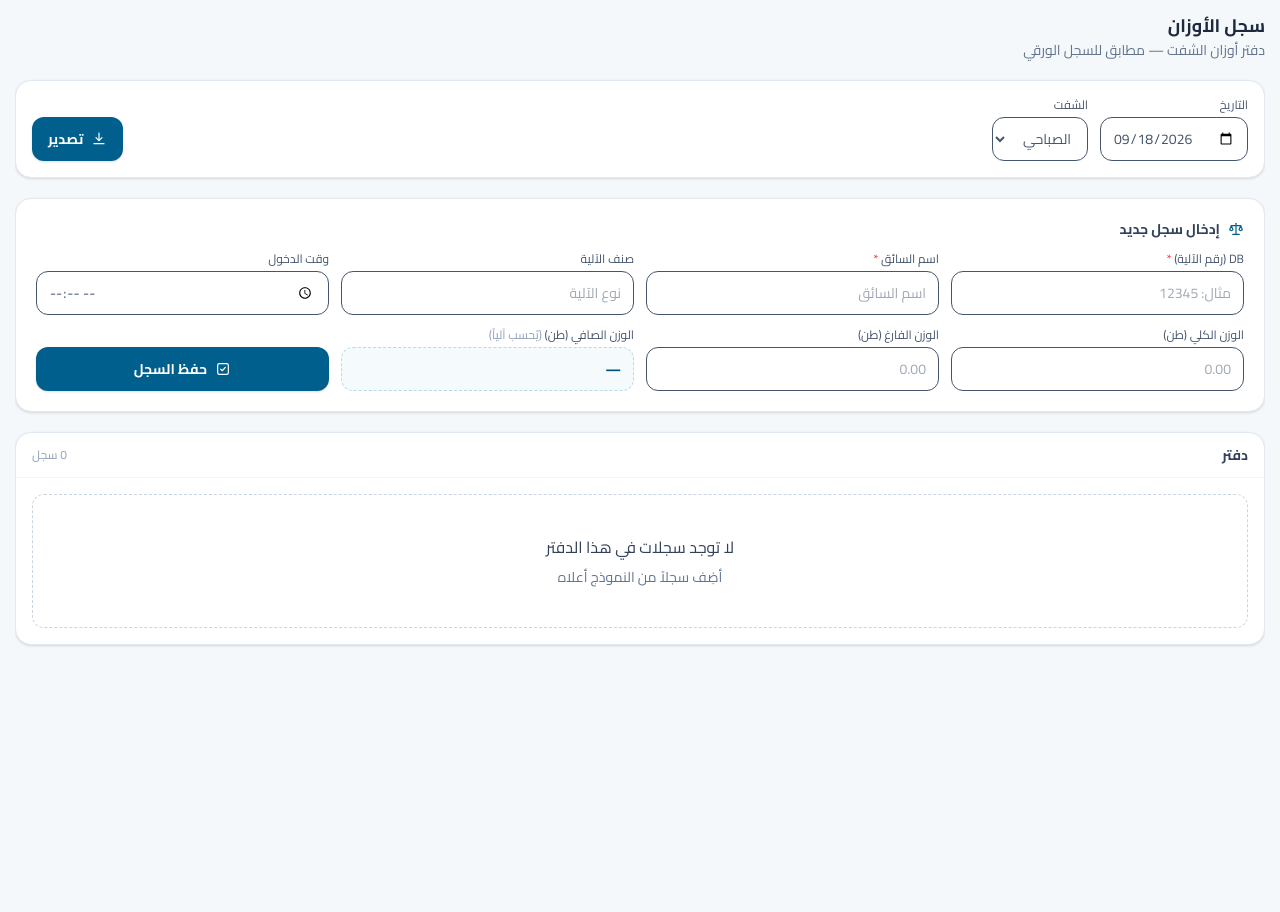
WeightsPage — النموذج › يحسب الصافي آلياً = الكلي − الفارغ
The image size is (1280, 912).
Step 1. Type "25" into the number field with test id "f-gross" → [1098, 369], box [951,347,1244,391]
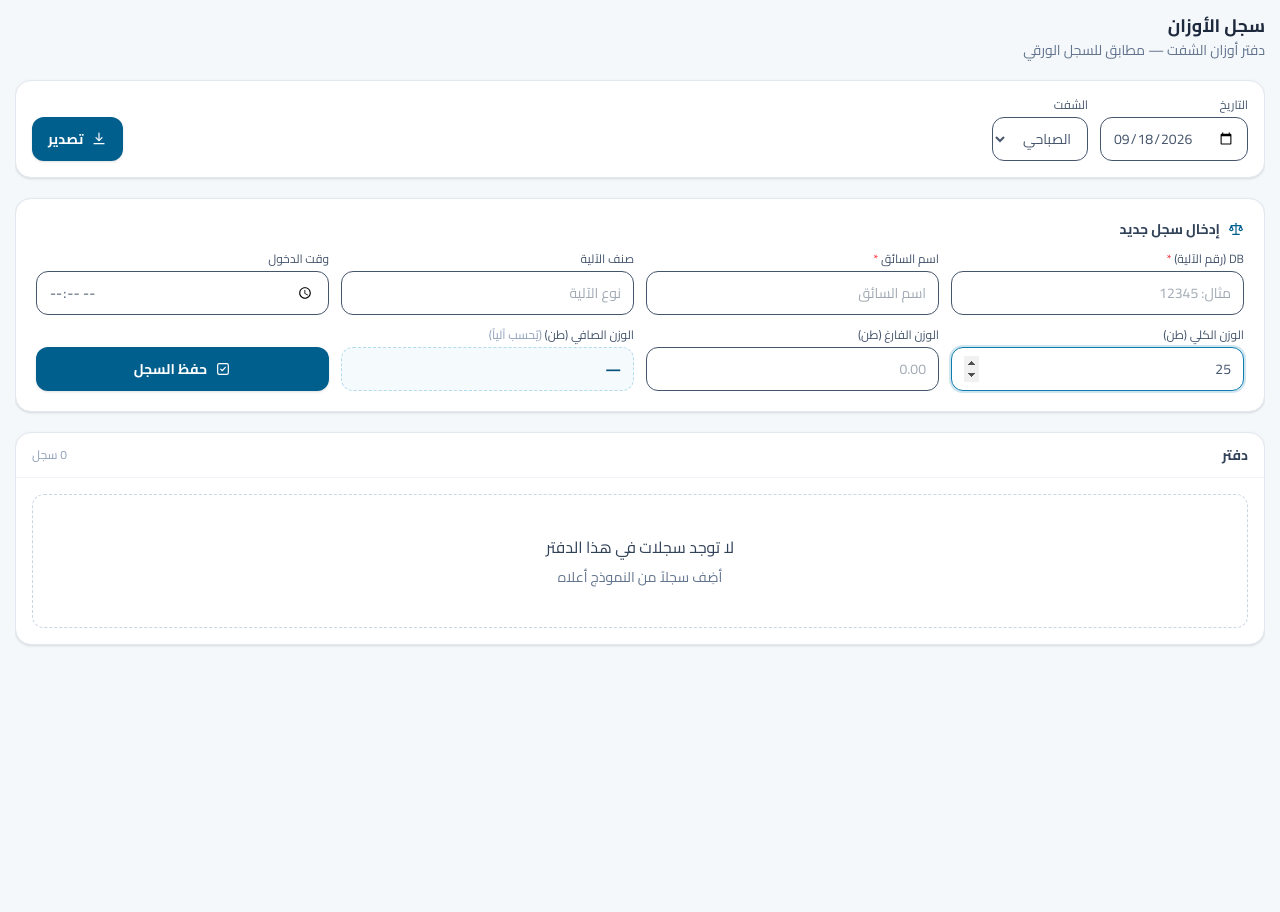
Step 2. Type "10" into the number field with test id "f-tare" → [792, 369], box [646,347,939,391]
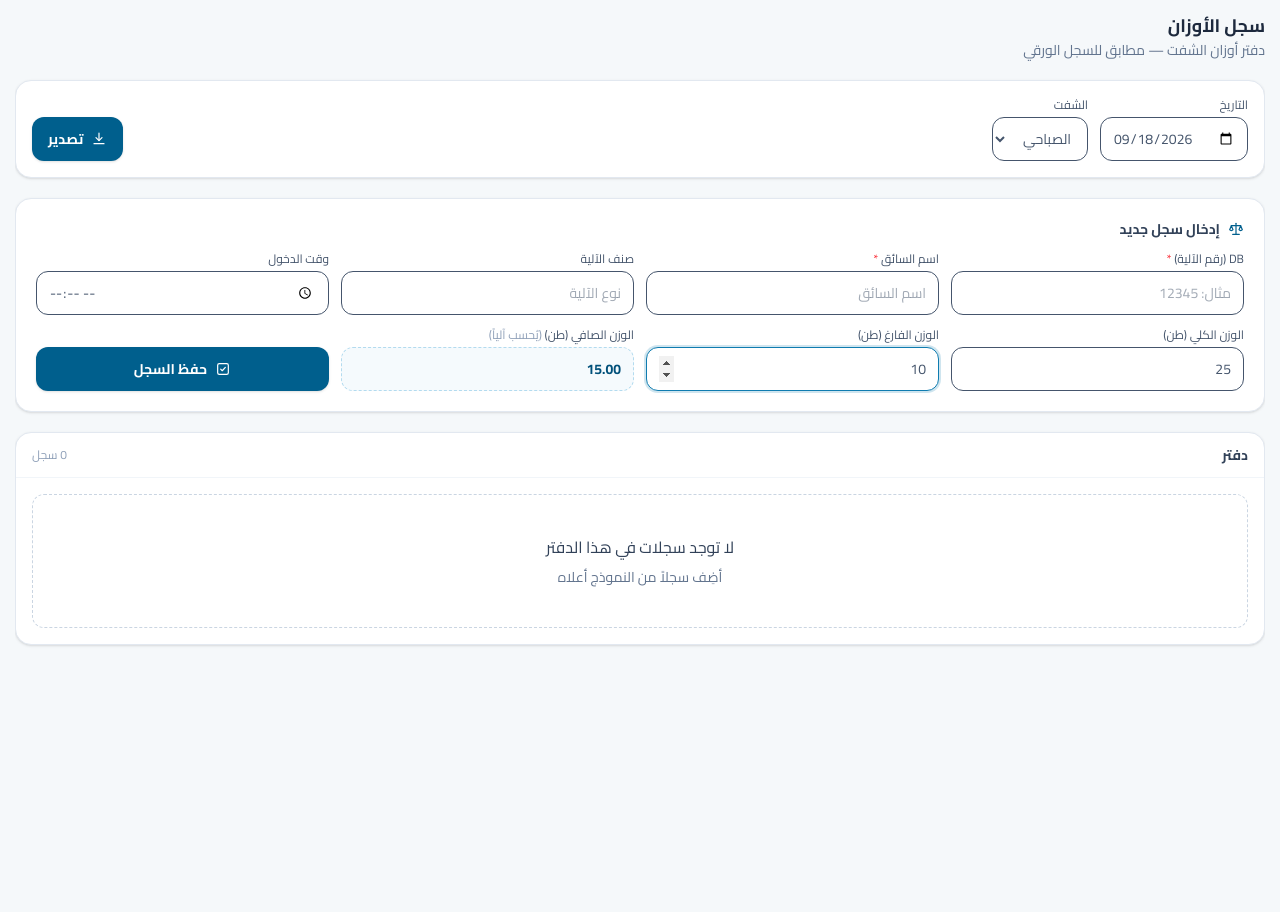
Expected: the text "15.00" is shown, [341,347,634,391]
